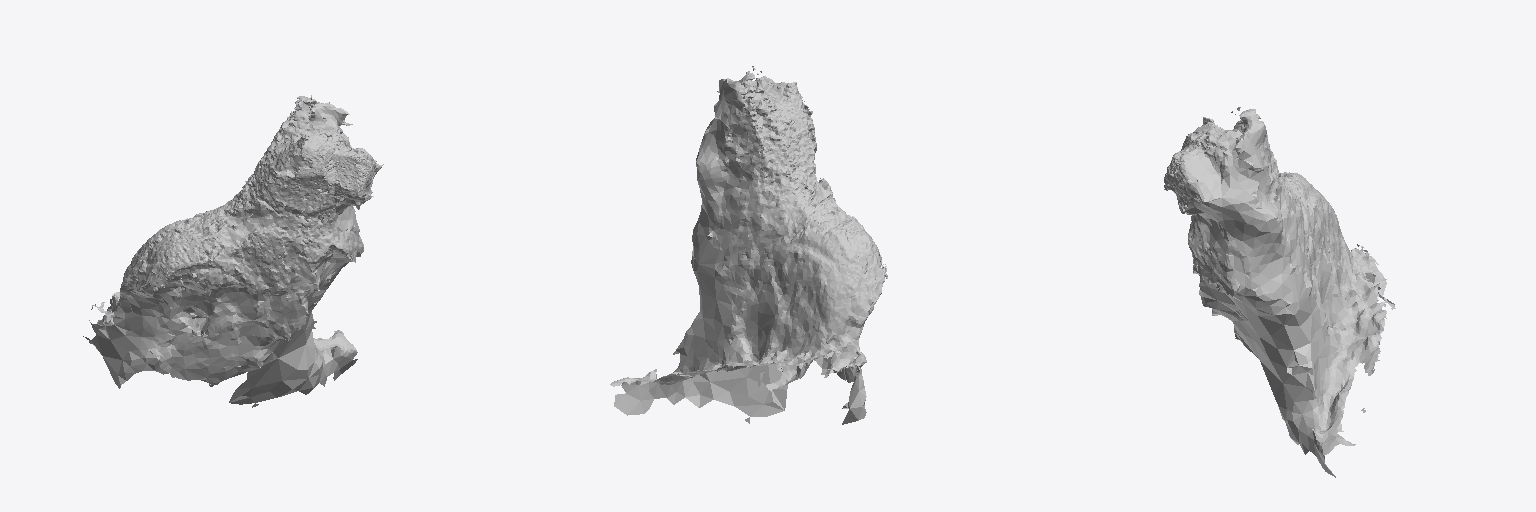
Rendered from afterCutting.obj.
3 renders of one model, left to right at view 1: azimuth 30°, elevation 25°; view 2: azimuth 150°, elevation 25°; view 3: azimuth 270°, elevation 25°, orthographic.
Parts seen in each view (by area): view 1: texturedMesh; view 2: texturedMesh; view 3: texturedMesh.
Part boxes in pixels (x1,y1,x2,y2): texturedMesh: (83,95,383,407); texturedMesh: (610,66,887,424); texturedMesh: (1164,107,1395,477).
Size of the model in its own units: 7.37 by 9.16 by 5.78.